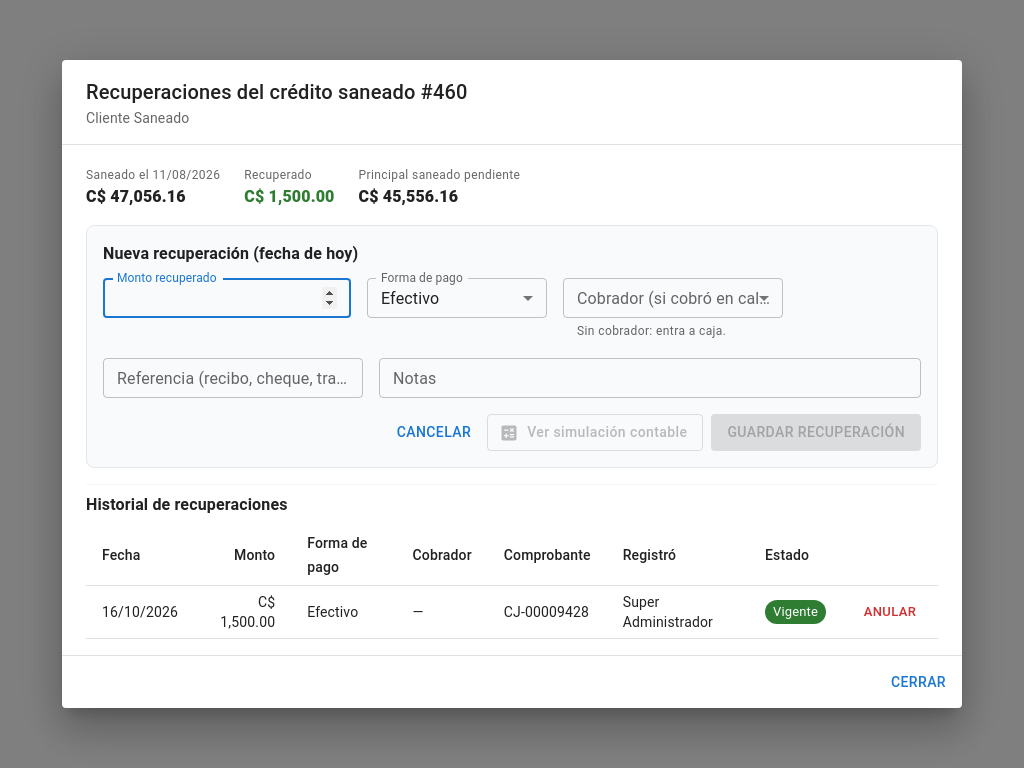
Test case: WriteoffRecoveriesDialog (recuperación de cartera saneada) › registra una recuperación con su client_reference_id y recarga
The width and height of the screenshot is (1024, 768).
Expected: the text "CJ-00009428" is shown, [504,604,589,620]
Type "250" into the number field labelled "Monto recuperado".
click(227, 298); type("250")  # box [103,278,351,318]
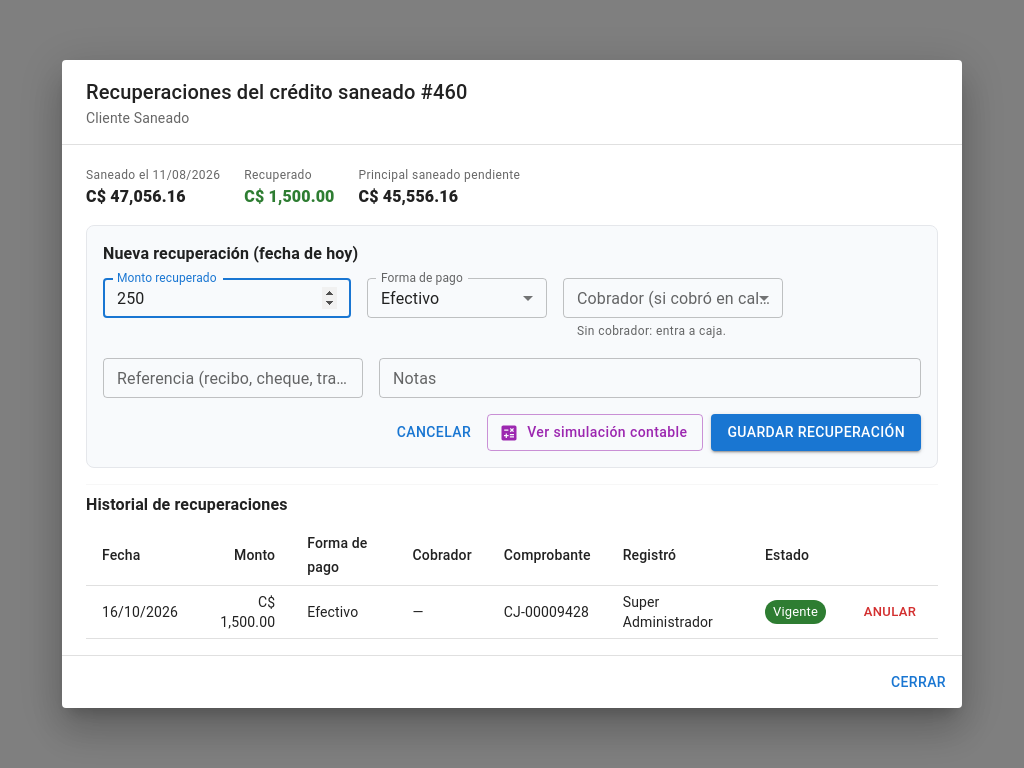
Type "R-1" into the field labelled "Referencia (recibo, cheque, transferencia)".
click(233, 378); type("R-1")  # box [103,358,363,398]
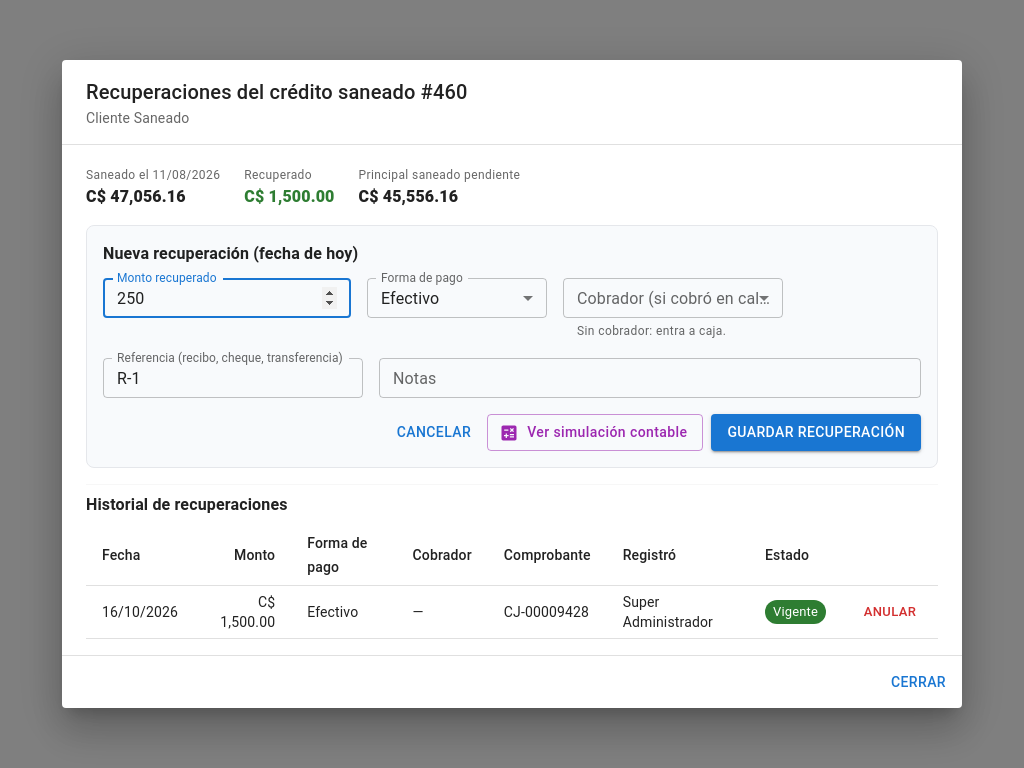
Click the button "Guardar recuperación".
click(816, 433)  # box [711,414,921,451]
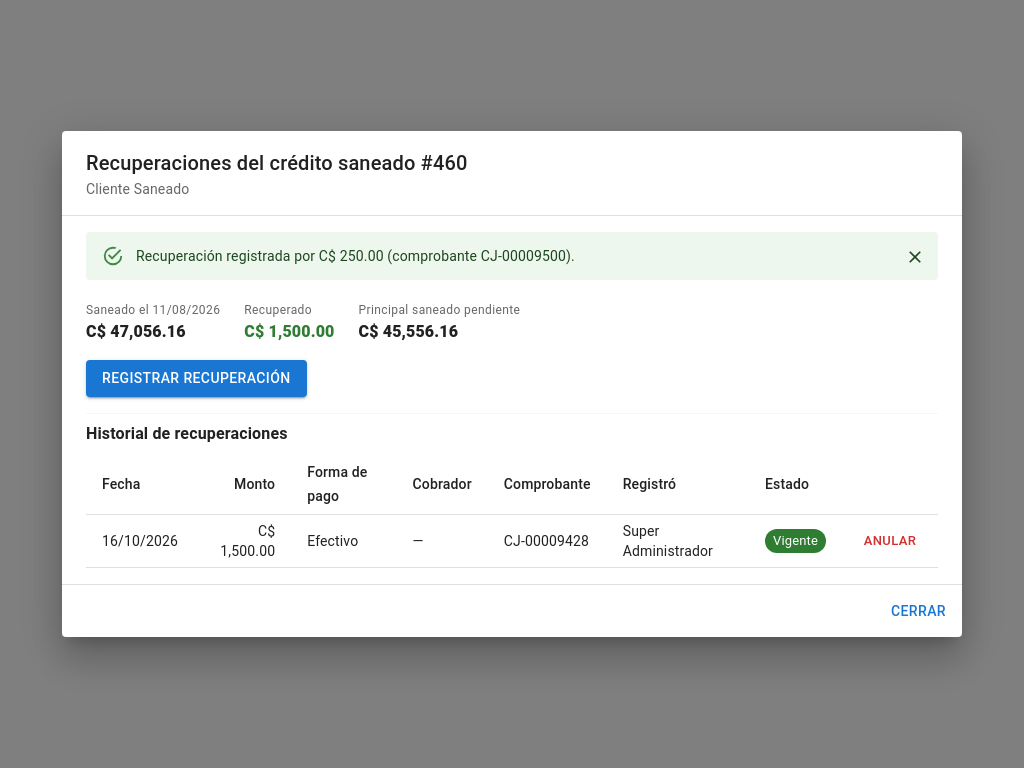
Expected: the text "Recuperación registrada por C$ 250.00 (comprobante CJ-00009500)" is shown, [136,248,575,264]
